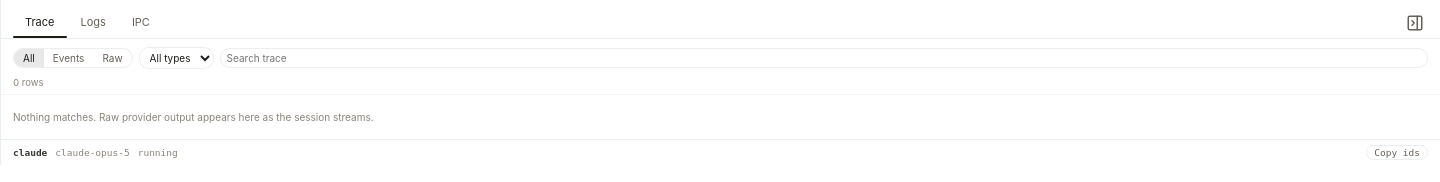
Test: DebugPanel › hides log lines below the selected level
Click the tab "Logs" at (93, 24), box [68,8,118,38]
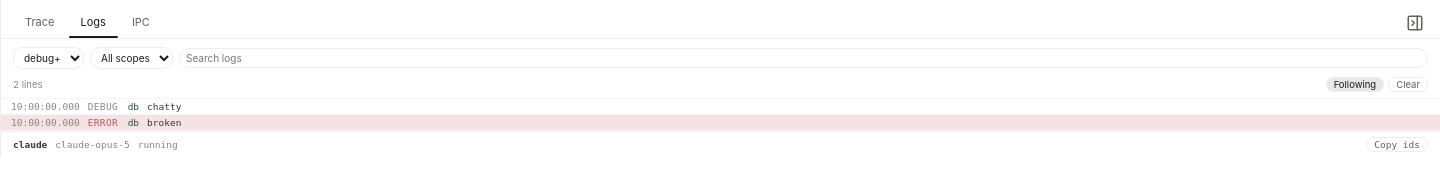
Expected: the text "chatty" is shown, [147,101,181,112]
Select "warn+" in the dropdown named "Minimum level" at (48, 58), box [13,47,84,69]
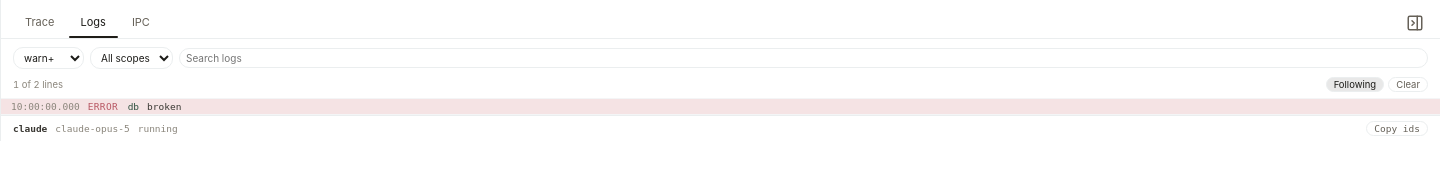
Expected: the text "broken" is shown, [147,101,181,112]
Expected: the text "chatty" is gone
